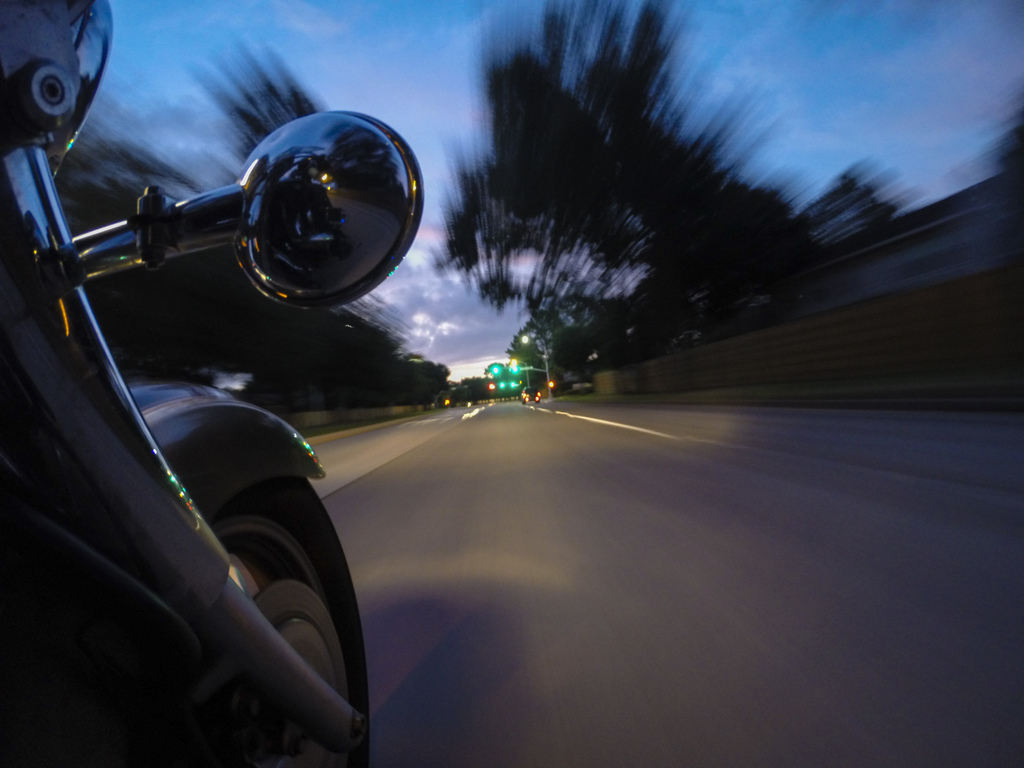Wheel: (24, 436, 372, 760)
